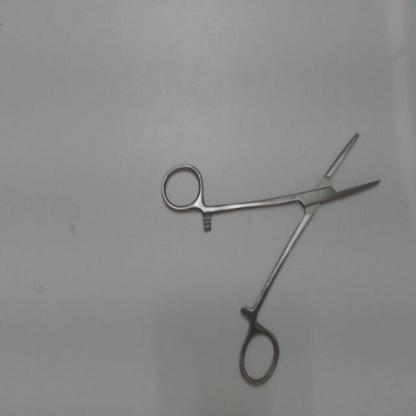Mayo Needle Holder: (157, 119, 395, 391)
